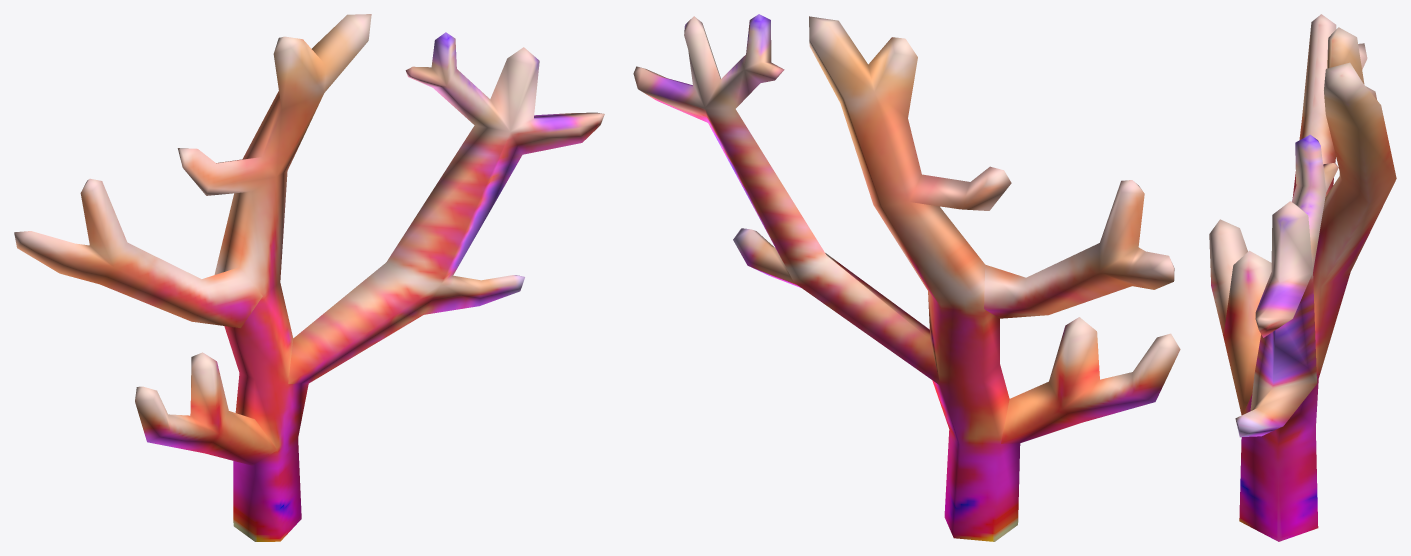
The model's file is Sea_shanhu07.FBX.
The picture shows the model from 3 angles, left to right: view 1: azimuth 30°, elevation 25°; view 2: azimuth 150°, elevation 25°; view 3: azimuth 270°, elevation 25°; orthographic projection. The views are drawn at different scales.
Visible parts, largest first — view 1: objLine01; view 2: objLine01; view 3: objLine01.
Boxes of the visible parts, x1,y1,x2,y2 form: objLine01: (14, 14, 604, 541); objLine01: (633, 14, 1180, 541); objLine01: (1209, 14, 1396, 541).
Size of the model in its own units: 55.99 by 45.57 by 14.79.
